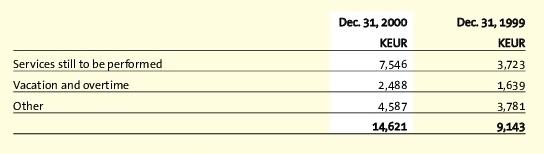table: (0, 0, 544, 154)
